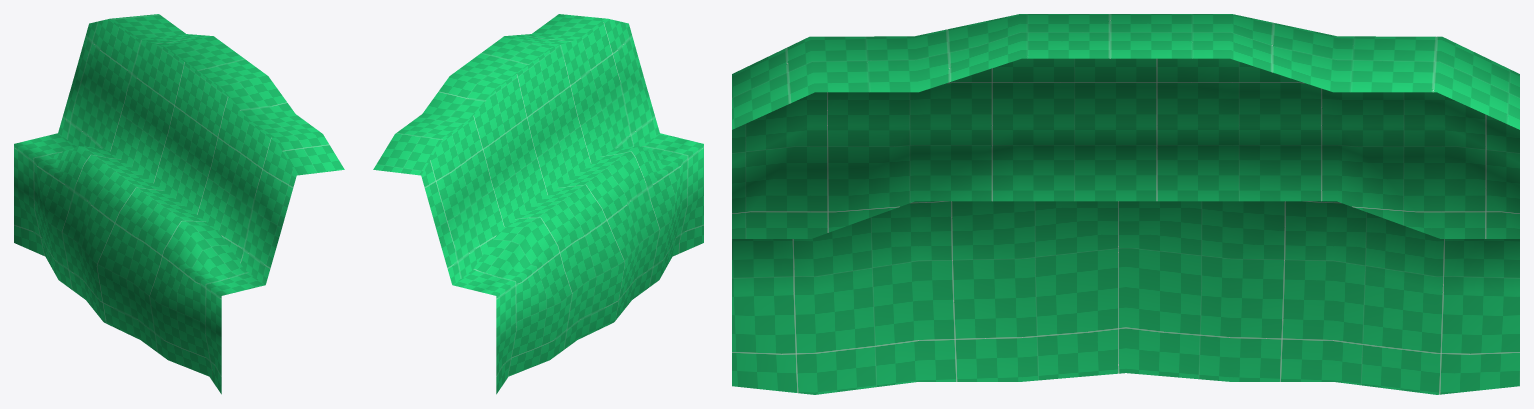
Rendered from SM_mountain_flat.fbx.
3 renders of one model, left to right at view 1: azimuth 30°, elevation 25°; view 2: azimuth 150°, elevation 25°; view 3: azimuth 270°, elevation 25°, orthographic. The views are drawn at different scales.
Visible parts, largest first — view 1: Cube.044; view 2: Cube.044; view 3: Cube.044.
Part boxes in pixels (x1=…): Cube.044: x1=14, y1=14, x2=344, y2=394; Cube.044: x1=373, y1=14, x2=703, y2=394; Cube.044: x1=732, y1=14, x2=1519, y2=394.
Bounding box in the file's own units: 1550 × 2350 × 3800.
